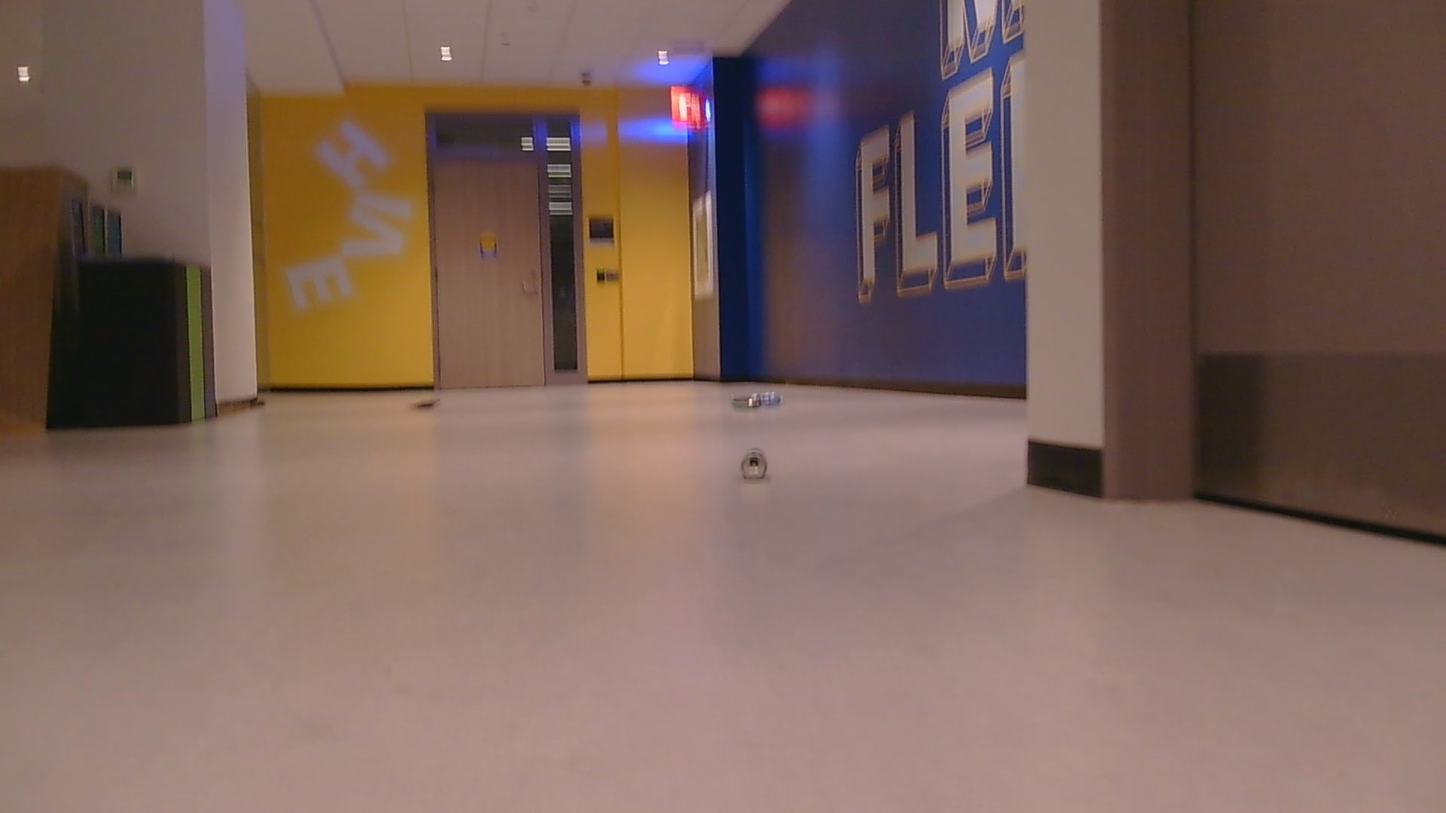carton: (731, 440, 779, 483), (723, 387, 789, 416), (405, 394, 455, 413)
